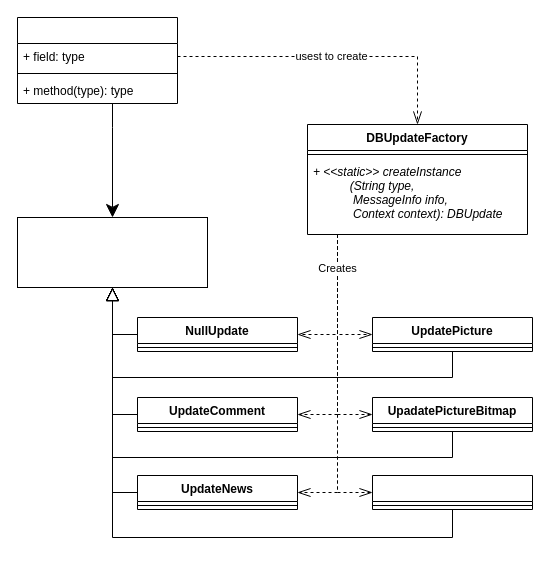
This 550x568 diagram has some shape labels left out. Here are the shapes that lost their labels. From the top down, the box of each, then its label:
(16, 16, 178, 104): NewsUpdateConsumer
(16, 216, 208, 288): <<Interface>> Interface + update();
(372, 474, 532, 510): UpdateSimpleNews
